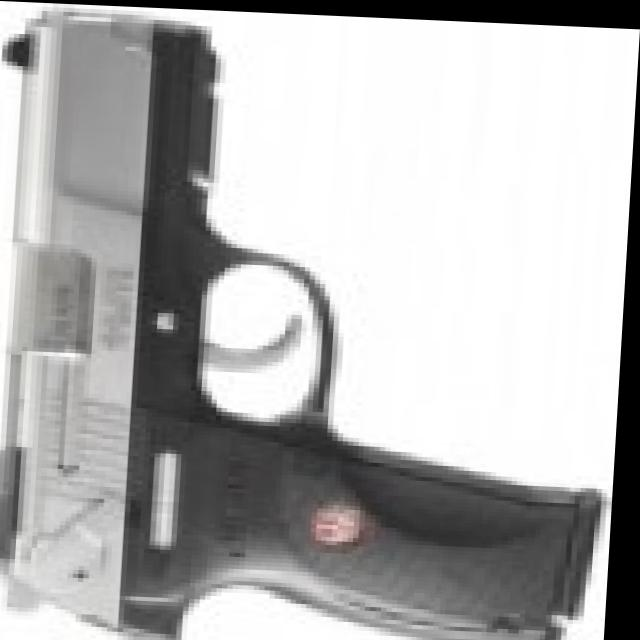handgun: (0, 12, 607, 640)
